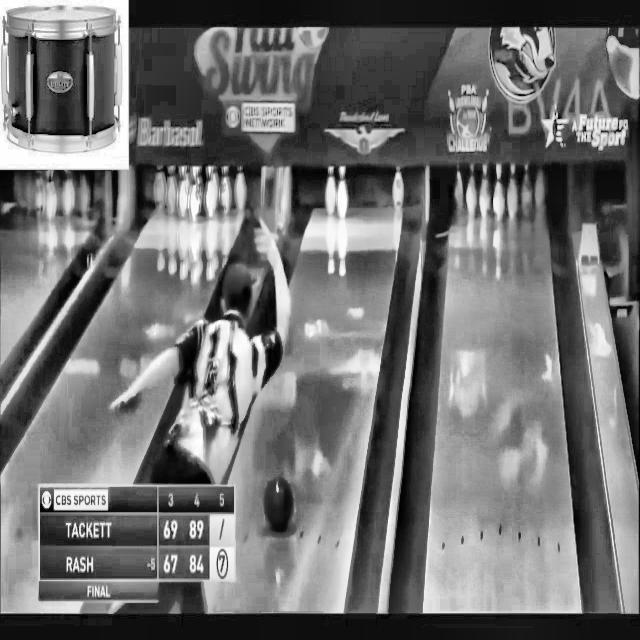bowling-ball: (264, 479, 293, 532)
bowling-pins: (337, 164, 348, 216), (326, 165, 336, 214), (393, 166, 404, 209)
